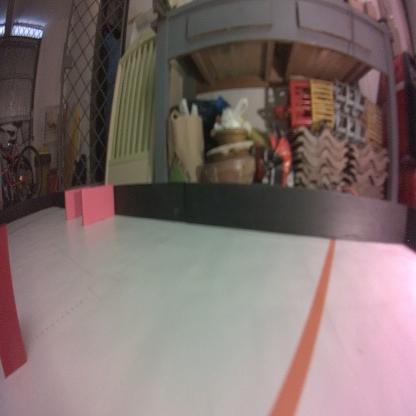magenta: (80, 185, 116, 225), (63, 186, 93, 220)
red: (0, 228, 29, 383)
